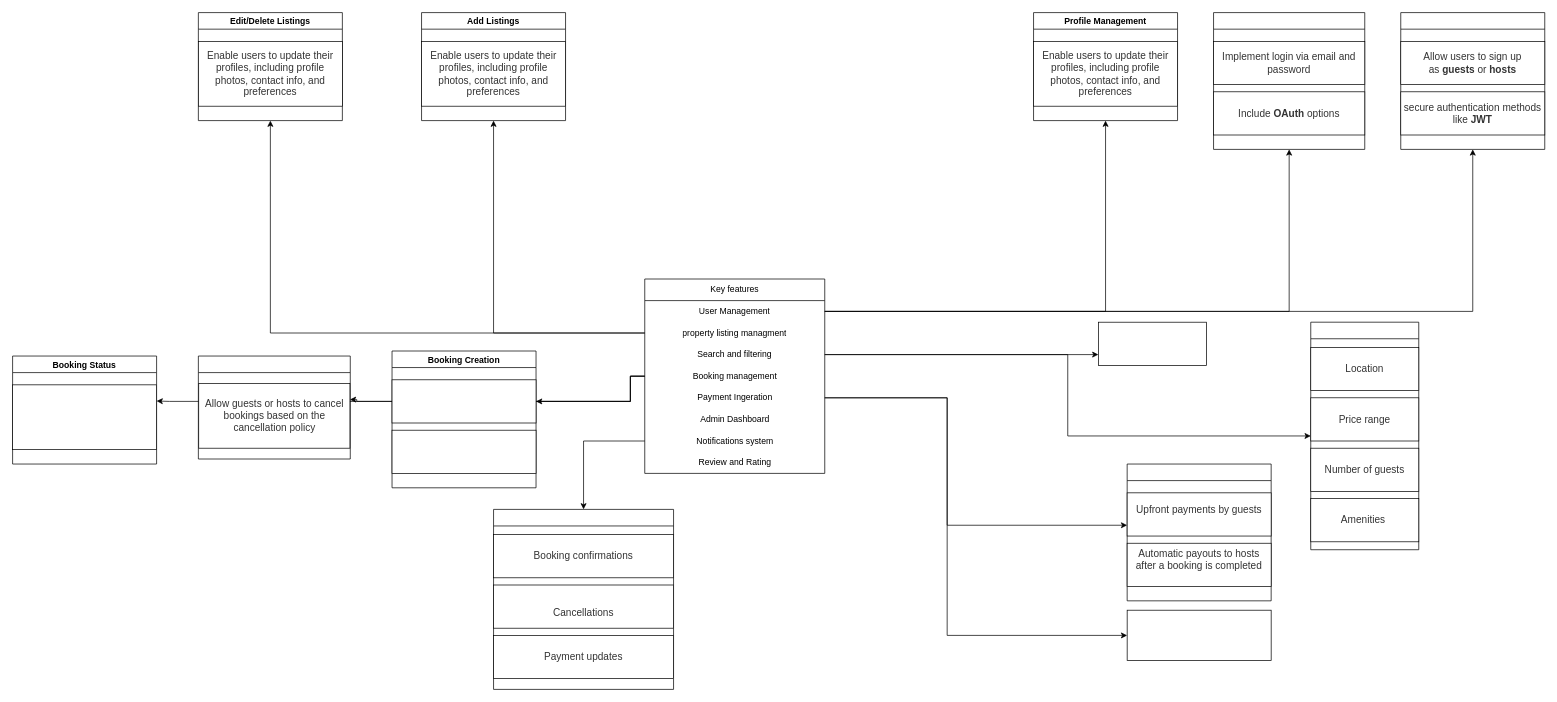
Image size: 1557x702. Some labels were removed from this diagram. Here are the shapes that lost their labels. From the top down, the box of each, then its label:
(1213, 12, 1365, 149): User Login and Authentication
(1400, 12, 1545, 149): User Registration
(1098, 321, 1206, 365): Include pagination for large datasets
(12, 384, 157, 450): Track booking statuses such as pending, confirmed, canceled, or completed
(198, 355, 350, 459): Booking Cancellation
(391, 379, 536, 423): Guests can book a property for specified dates
(391, 429, 536, 473): Prevent double bookings using date validation.
(1310, 321, 1419, 550): search functionality
(1126, 463, 1271, 601): secure payment gateways
(493, 509, 674, 689): Implement email and in-app notifications
(1126, 609, 1271, 661): Include support for multiple currencies
